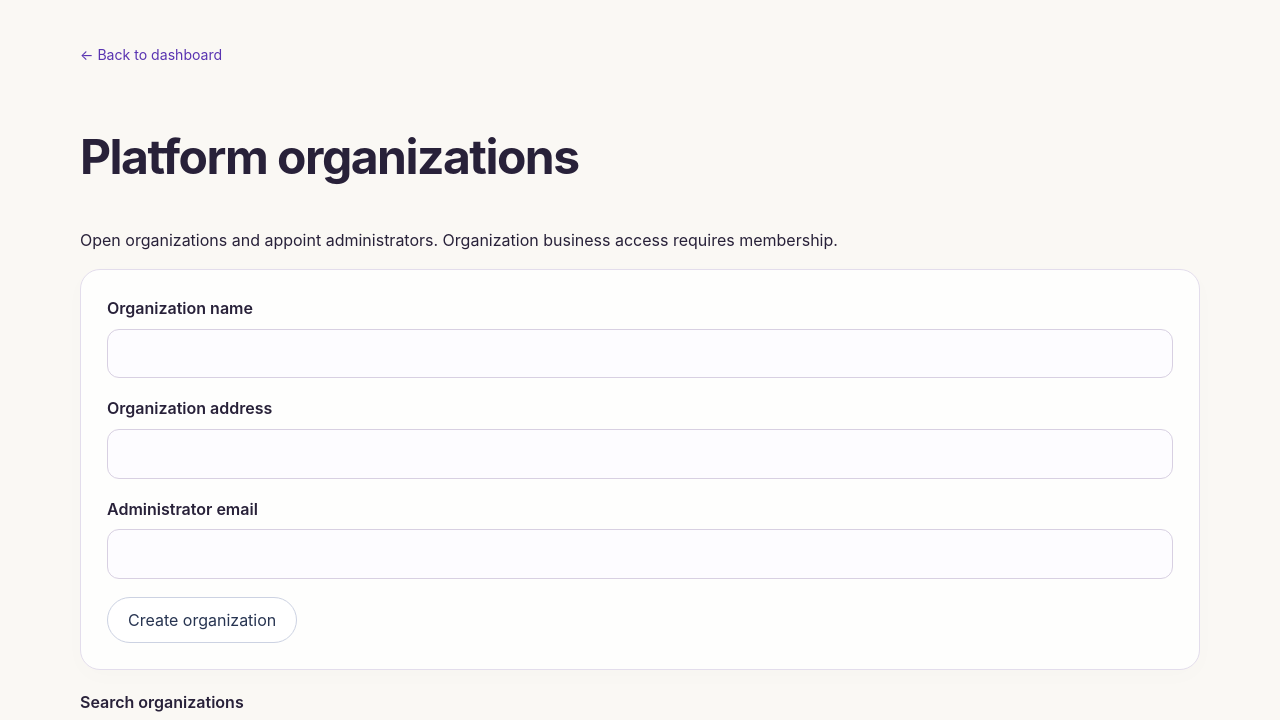
keeps the form and shows the server error when creation is rejected
Type "Society" into the field labelled "Organization name" at [640, 354], box [107, 329, 1173, 378]
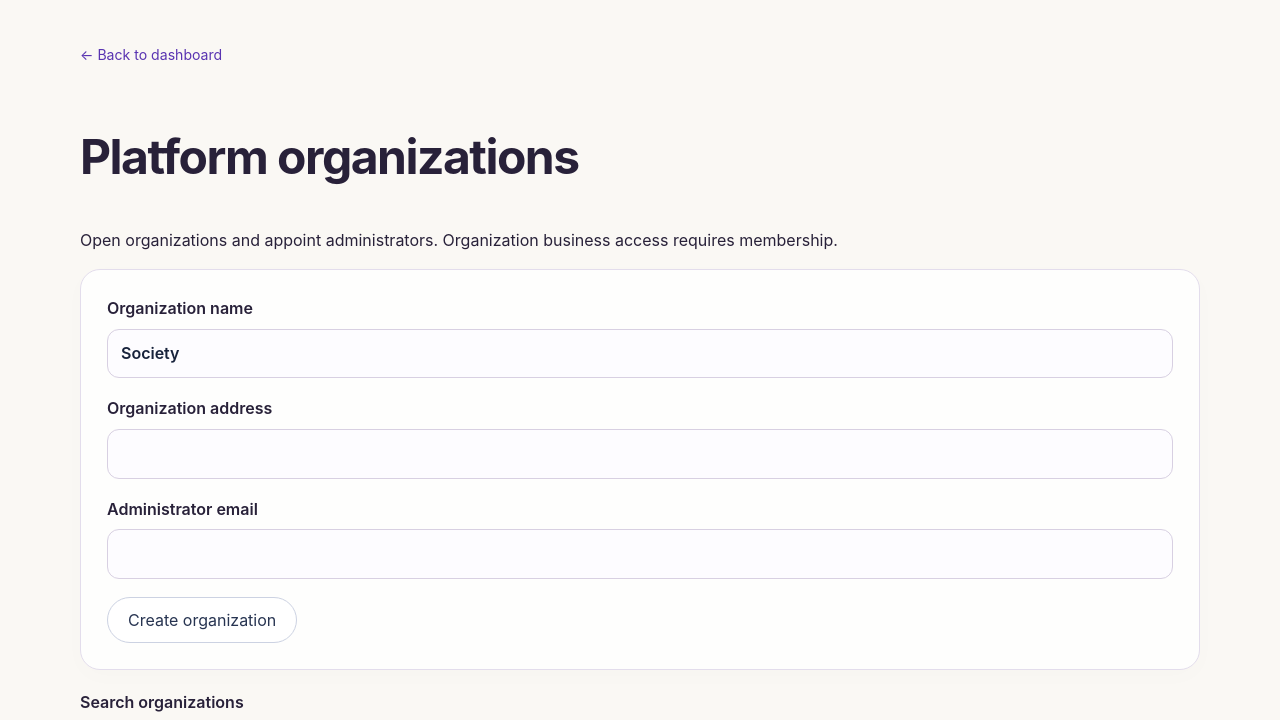
Type "society" into the field labelled "Organization address" at [640, 454], box [107, 429, 1173, 479]
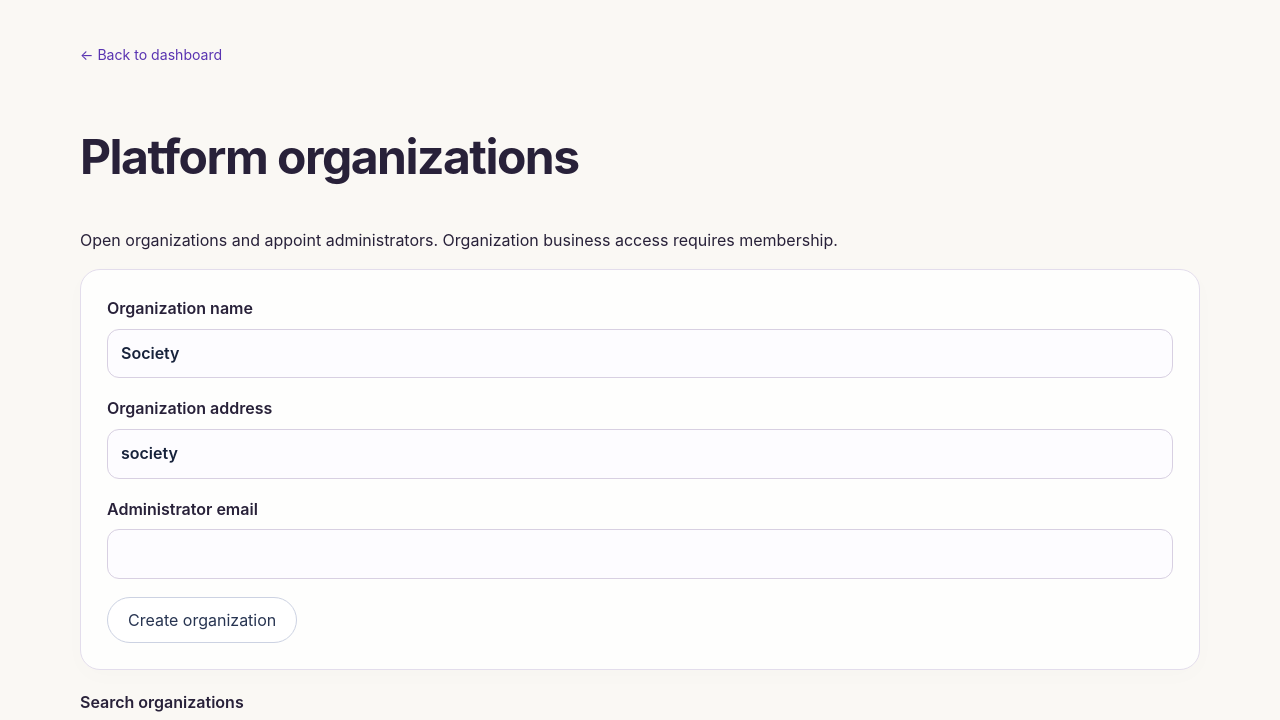
Type "owner@example.com" into the field labelled "Administrator email" at [640, 554], box [107, 529, 1173, 579]
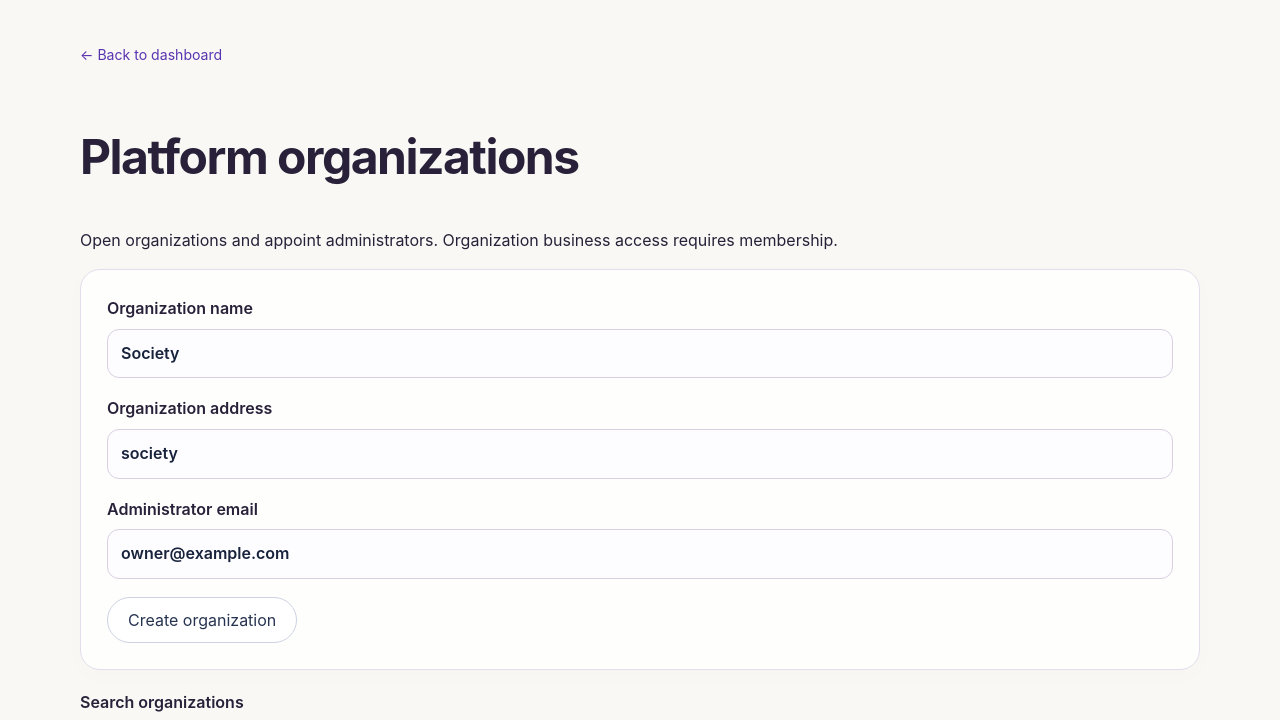
Click the button "Create organization" at [202, 620], box [107, 597, 297, 643]
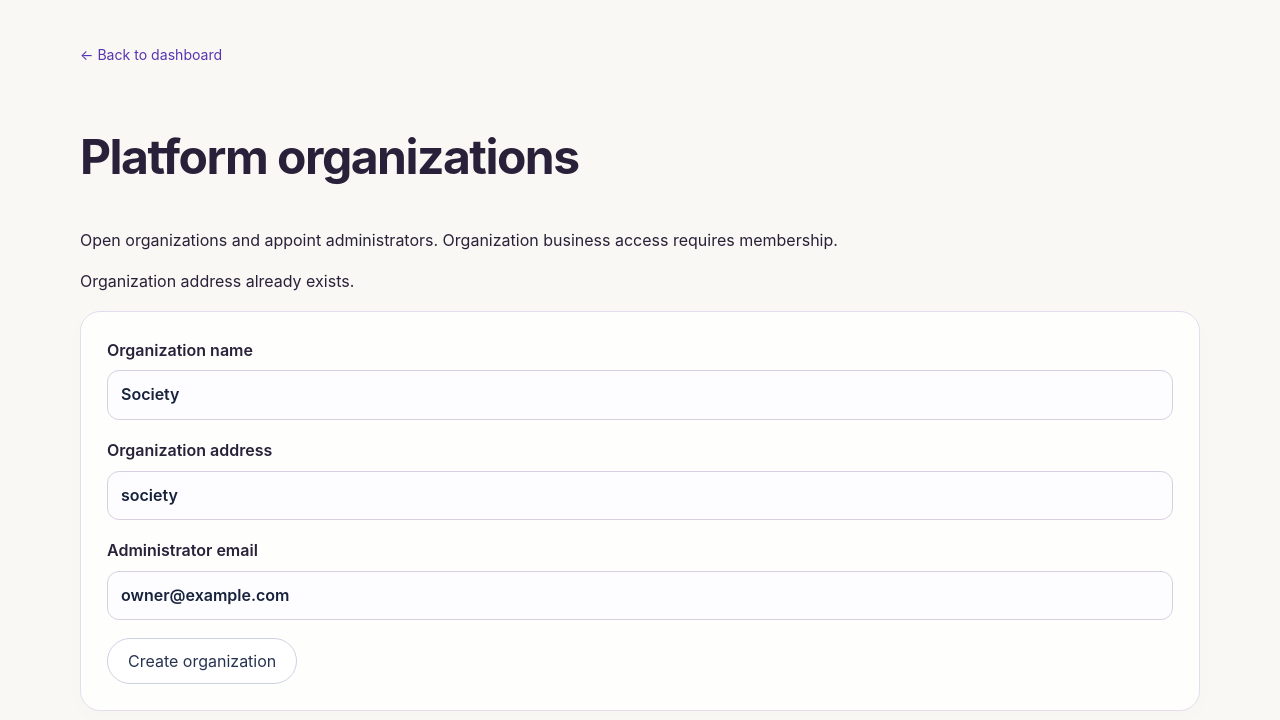
Expected: the message reads "Organization address already exists.", [80, 271, 354, 291]
